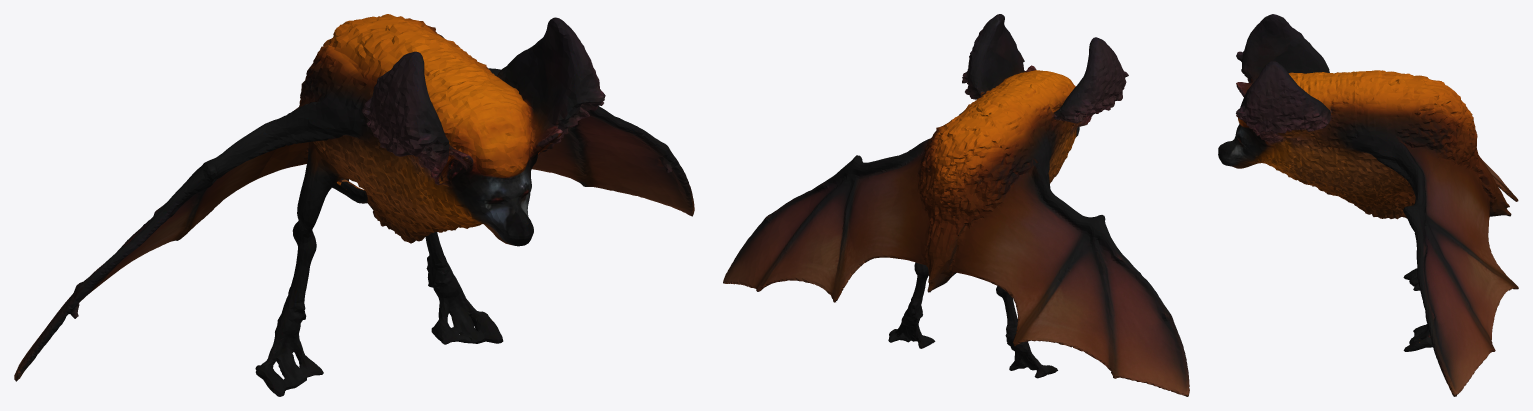
The model's file is avian_bat.glb.
3 views of the same model, side by side, from view 1: azimuth 30°, elevation 25°; view 2: azimuth 150°, elevation 25°; view 3: azimuth 270°, elevation 25° (orthographic). The views are drawn at different scales.
Visible parts, largest first — view 1: textured_mesh.obj; view 2: textured_mesh.obj; view 3: textured_mesh.obj.
Part boxes in pixels (x1,y1,x2,y2): textured_mesh.obj: [14, 14, 694, 396]; textured_mesh.obj: [723, 14, 1189, 396]; textured_mesh.obj: [1218, 14, 1518, 396].
Size of the model in its own units: 1.99 by 1.14 by 1.12.
Materials: 1 (1 with a texture image).
